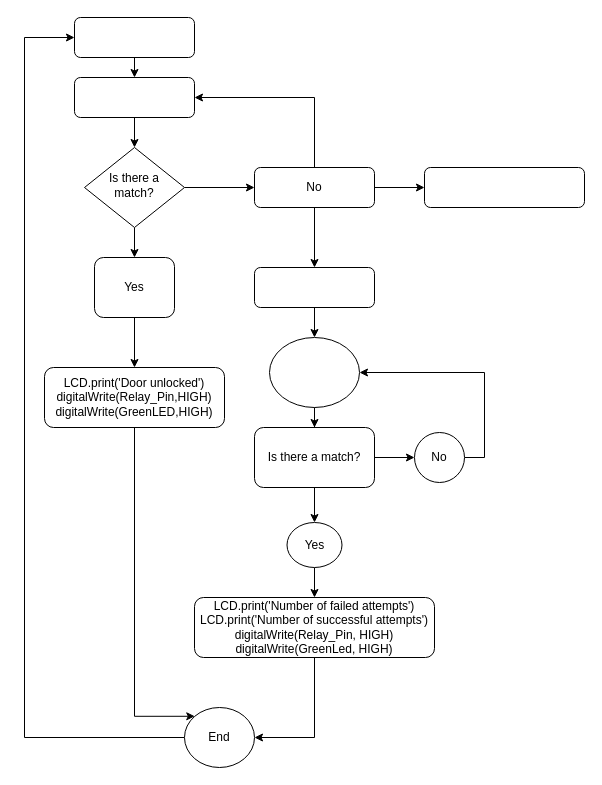
Image size: 602x785. Some labels were removed from this diagram. Here are the shapes that lost their labels. From the top down, the box of each, then its label:
(74, 16, 194, 58): Start
(74, 76, 194, 118): Scan User Tag
(424, 166, 584, 208): digitalWrite(RedLed, HIGH)
(254, 266, 374, 308): Is numberSwipes>3?
(268, 336, 360, 408): Wait for admin
